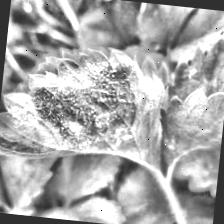Powdery Mildew Leaf: (0, 36, 172, 173)
